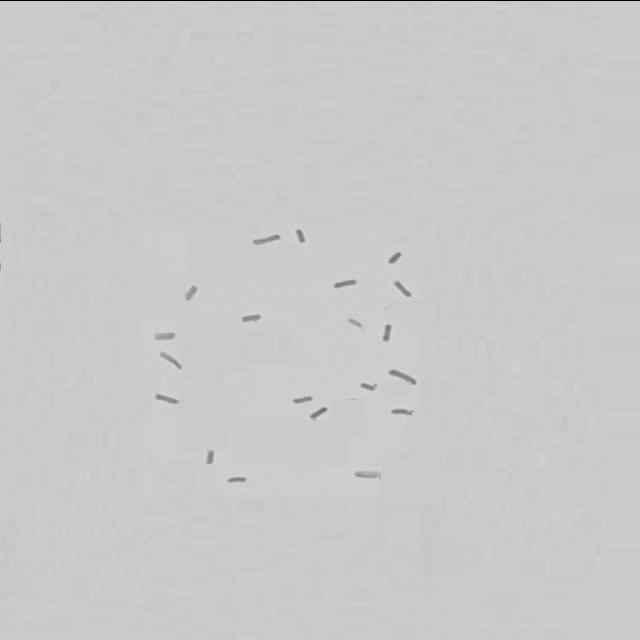E-coli: (386, 366, 421, 386), (155, 349, 185, 371), (328, 274, 362, 292), (391, 277, 417, 298), (152, 392, 186, 408), (250, 232, 282, 248), (152, 327, 179, 345), (381, 319, 399, 343), (352, 469, 382, 483), (344, 313, 367, 331), (306, 405, 334, 419), (387, 404, 415, 418), (386, 248, 409, 264), (182, 283, 202, 301), (225, 473, 253, 485), (238, 313, 266, 325), (290, 227, 310, 243), (202, 446, 218, 465), (356, 380, 378, 393), (289, 394, 314, 404)
